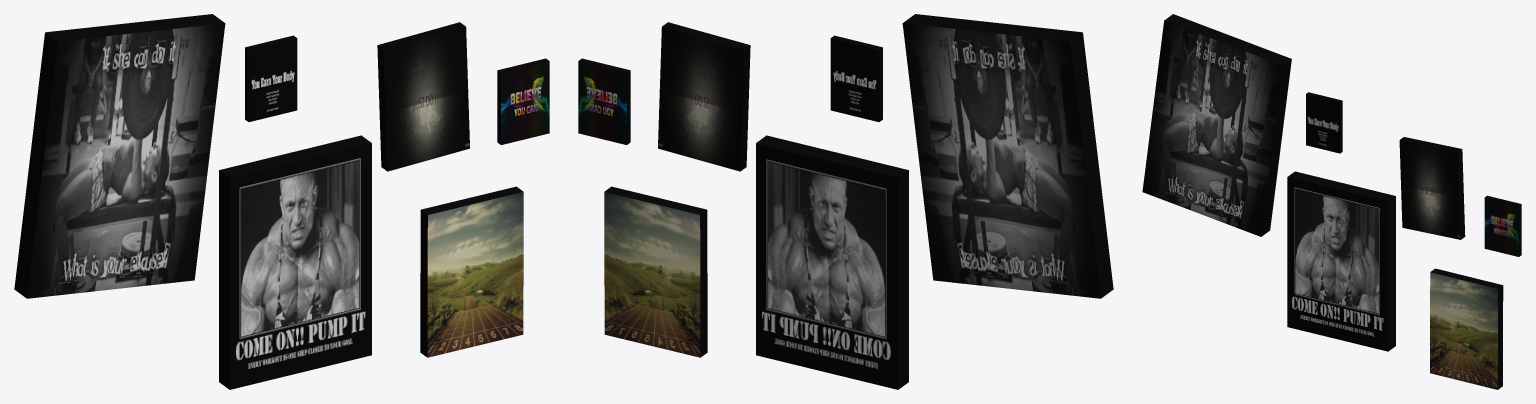
The model's file is posters.fbx.
The picture shows the model from 3 angles, left to right: view 1: azimuth 30°, elevation 25°; view 2: azimuth 150°, elevation 25°; view 3: azimuth 330°, elevation 25°; orthographic projection. The views are drawn at different scales.
Visible parts, largest first — view 1: polySurface1; view 2: polySurface1; view 3: polySurface1.
Part boxes in pixels (x1,y1,x2,y2): polySurface1: (14,14,549,389); polySurface1: (578,14,1113,389); polySurface1: (1142,14,1521,389).
Size of the model in its own units: 13.27 by 9.85 by 0.5538.
